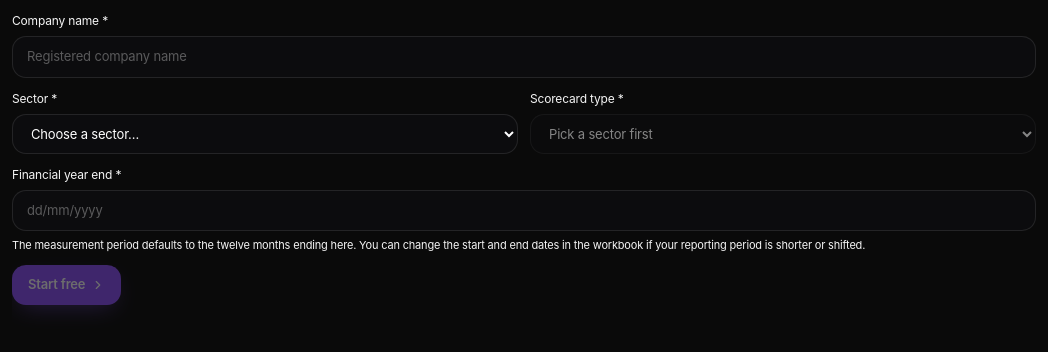
the new company form › names the missing field once the user has been there
Click the field with test id "input-new-company" at (524, 57), box [12, 36, 1036, 78]
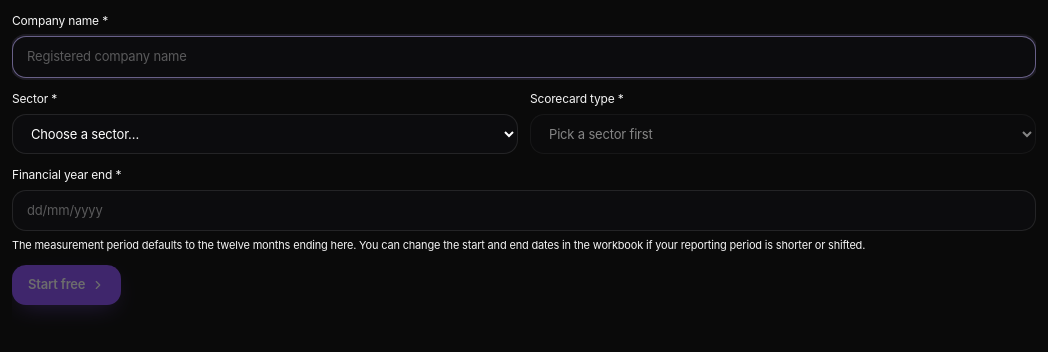
Press Tab
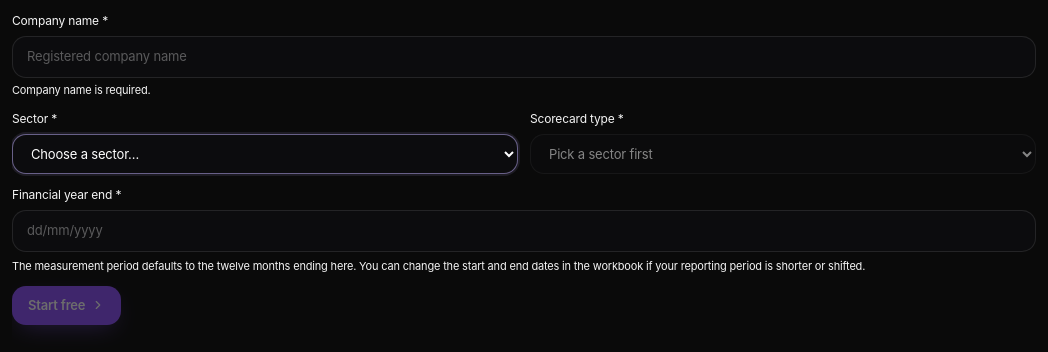
Result: the text "Company name is required." is shown at [12, 82, 150, 96]
